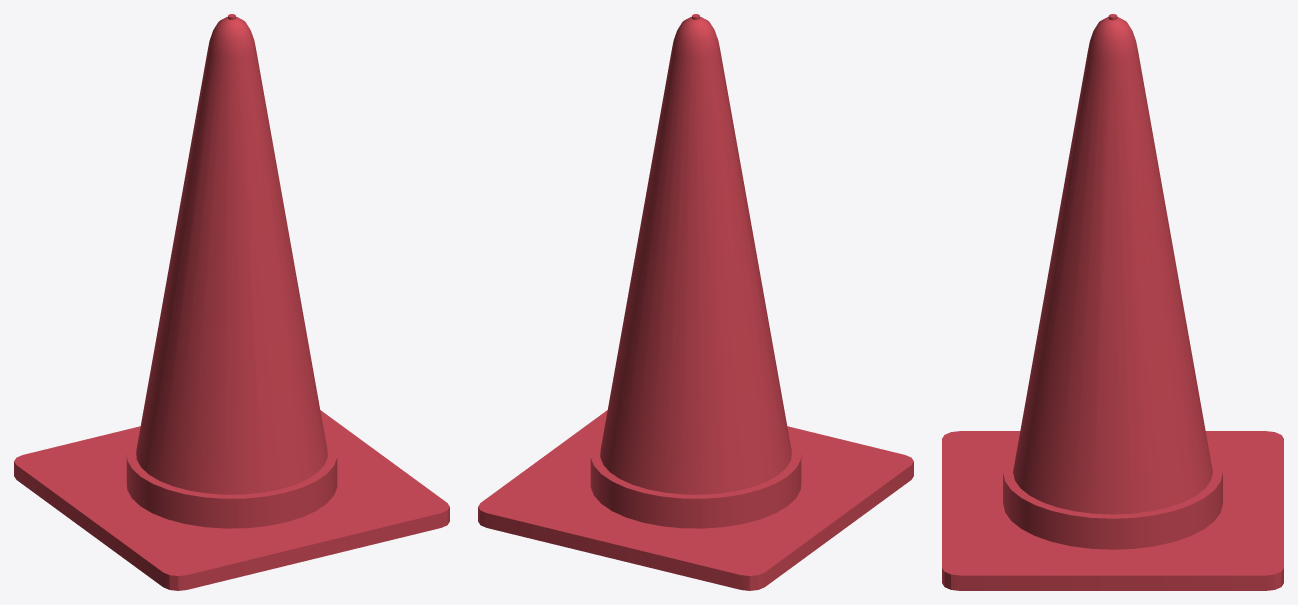
Rendered from safety-core.fbx.
3 views of the same model, side by side, from view 1: azimuth 30°, elevation 25°; view 2: azimuth 150°, elevation 25°; view 3: azimuth 270°, elevation 25° (orthographic). The views are drawn at different scales.
Parts seen in each view (by area): view 1: safety-core; view 2: safety-core; view 3: safety-core.
Part boxes in pixels (<box>): safety-core: <box>14,14,449,590</box>; safety-core: <box>478,14,913,590</box>; safety-core: <box>942,14,1283,590</box>.
Bounding box in the file's own units: 30 × 48.71 × 30.
